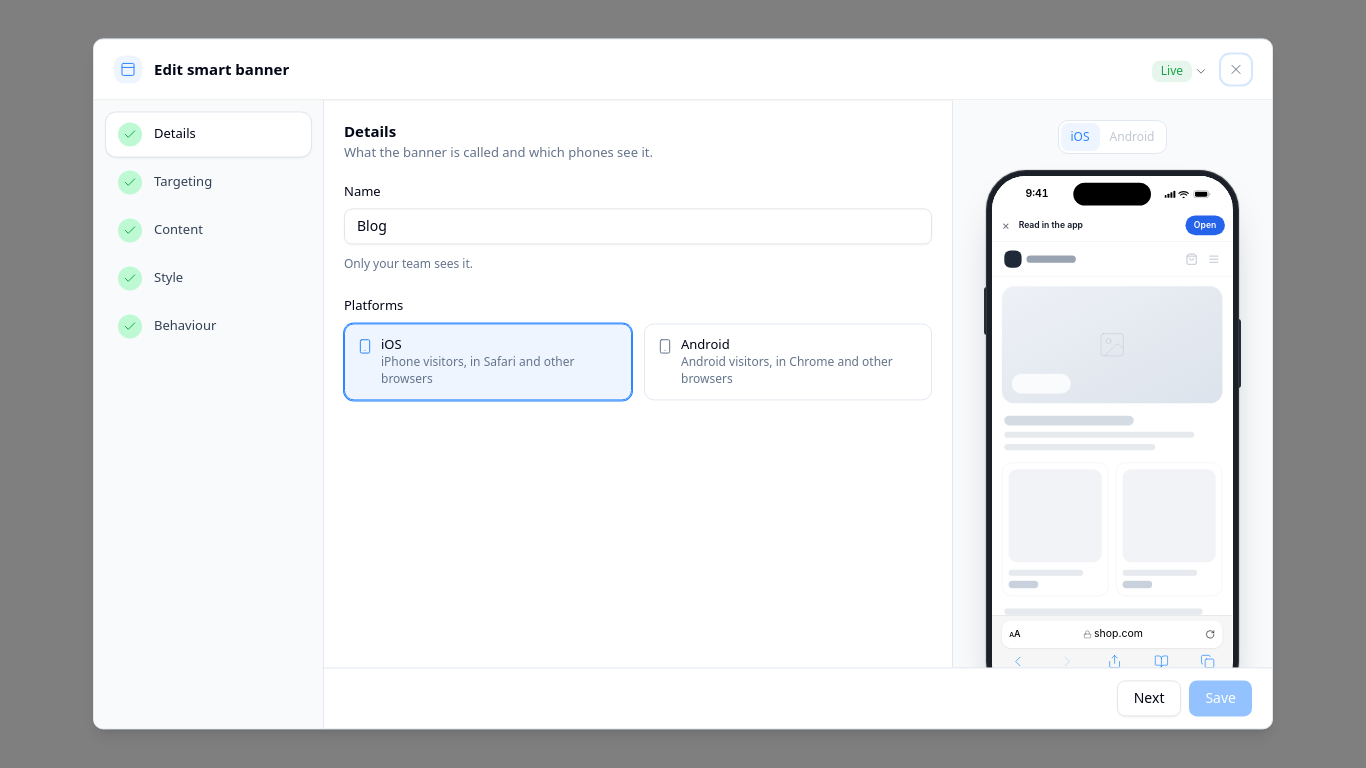
Scenario: SmartBannerDialog › locks the header status button while the composer has unsaved changes
Expected: the button with aria-label "Status of Blog: Live" is enabled, [1152,57,1208,82]
Type "!" into the field labelled "Name". click: (638, 226)
box: [344,208,932,244]
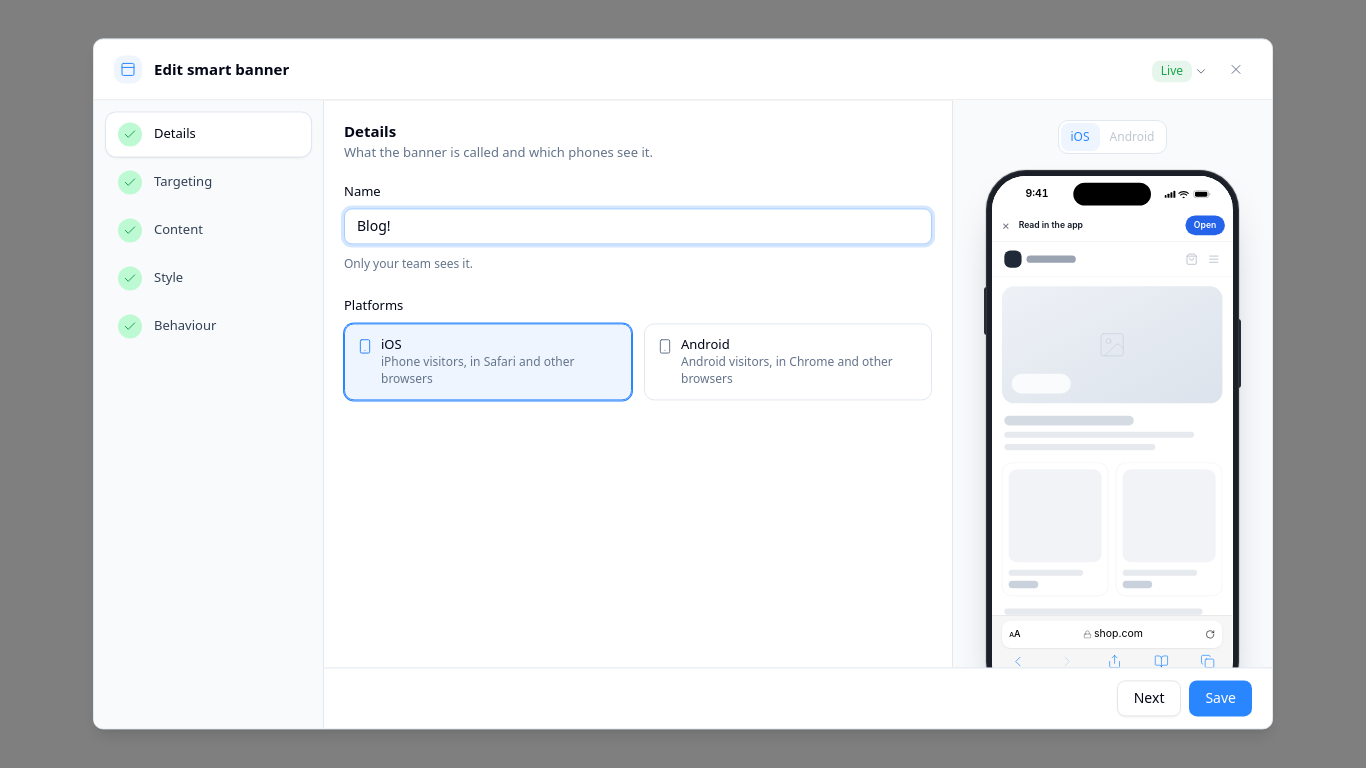
Hover over the element with test id "smart-banner-status-disabled" at (1180, 69), box [1152,57,1208,82]
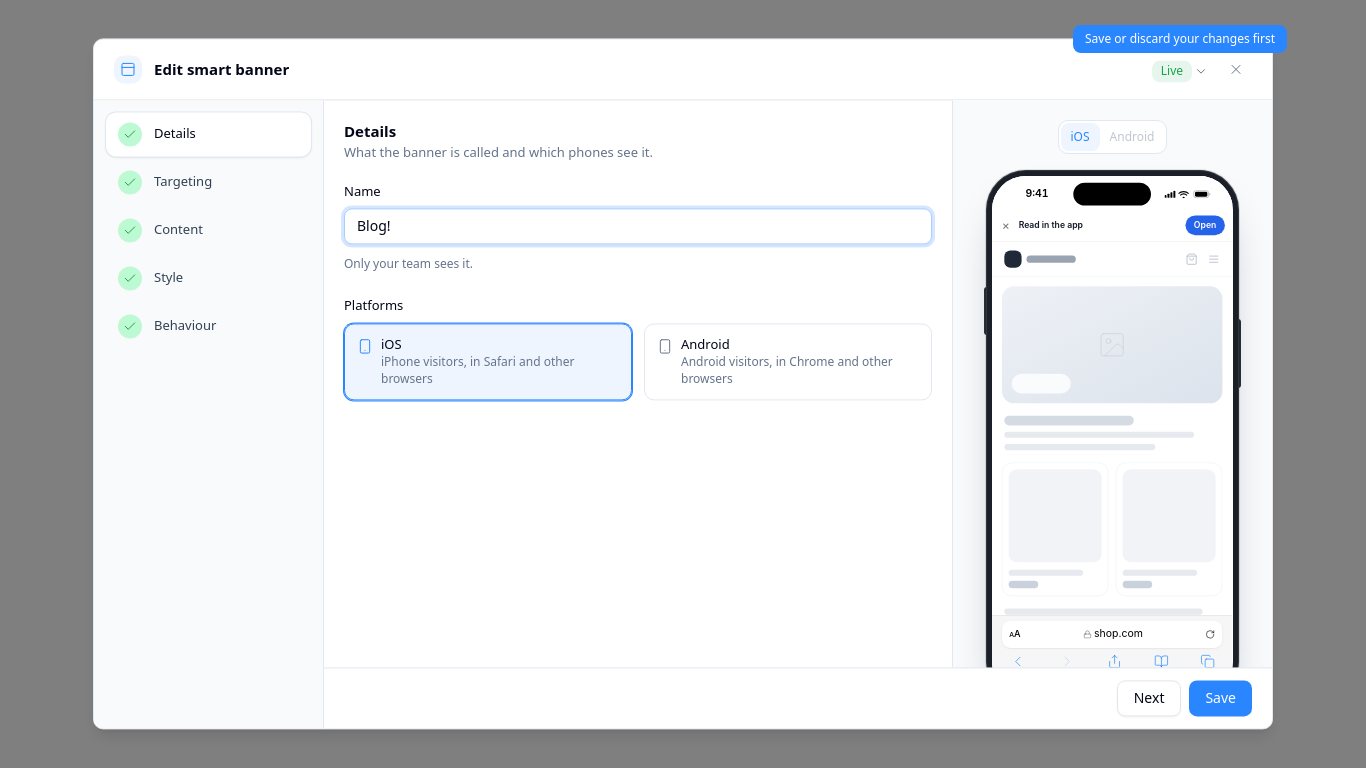
Now the tooltip "Save or discard your changes first" is shown, box [1073,25,1287,53]
